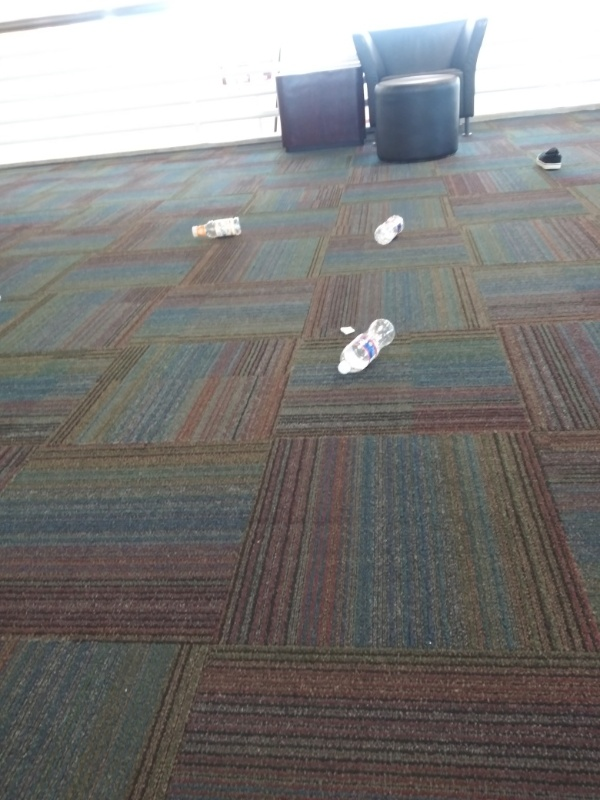bottle: (335, 315, 399, 380), (188, 214, 245, 244), (370, 211, 411, 248)
